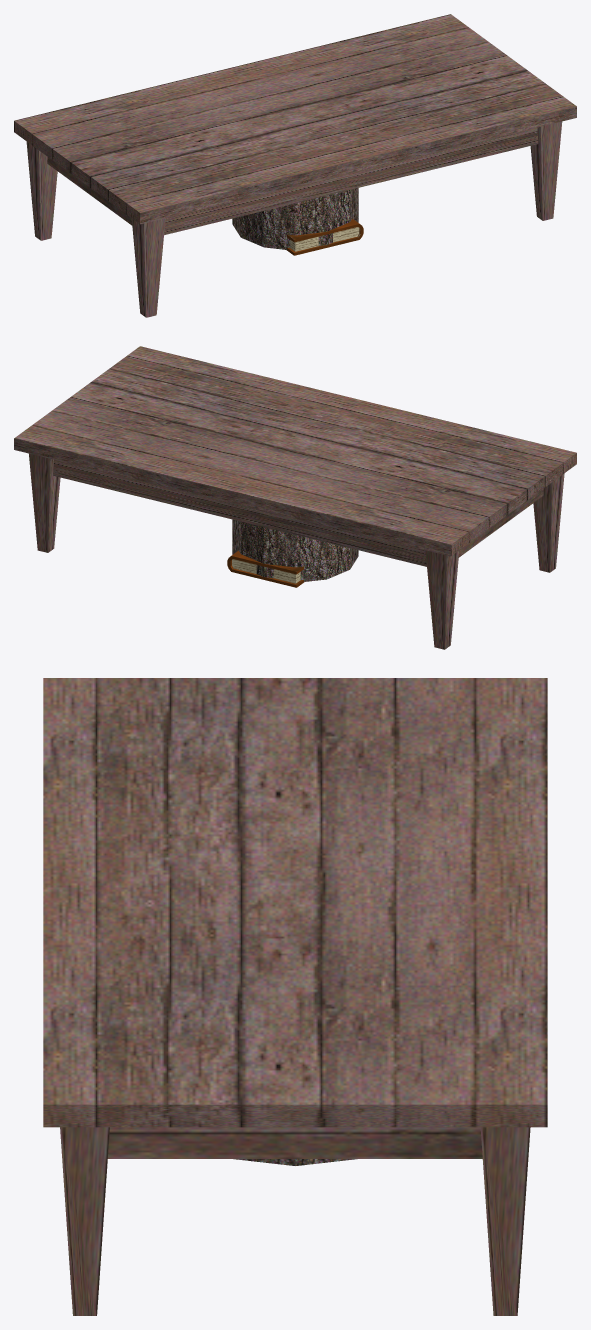
File: Clutter.fbx
The picture shows the model from 3 angles, top to bottom: view 1: azimuth 30°, elevation 25°; view 2: azimuth 150°, elevation 25°; view 3: azimuth 270°, elevation 25°; orthographic projection. The views are drawn at different scales.
Parts seen in each view (by area): view 1: Table, Stump, Book; view 2: Table, Stump, Book; view 3: Table.
Part boxes in pixels (box(x1,y1,x2,y2)): Table: box(14, 14, 576, 317); Stump: box(232, 188, 358, 249); Book: box(286, 218, 363, 255); Table: box(14, 346, 576, 649); Stump: box(232, 519, 358, 581); Book: box(227, 550, 304, 587); Table: box(43, 678, 547, 1315).
Size of what is drawn, in the model's own units: 400 by 101 by 200.
